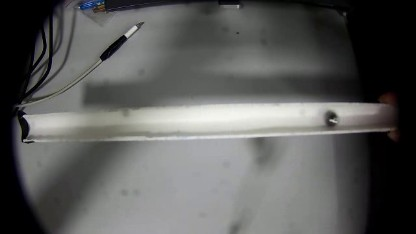gangzhu: (321, 108, 342, 130)
